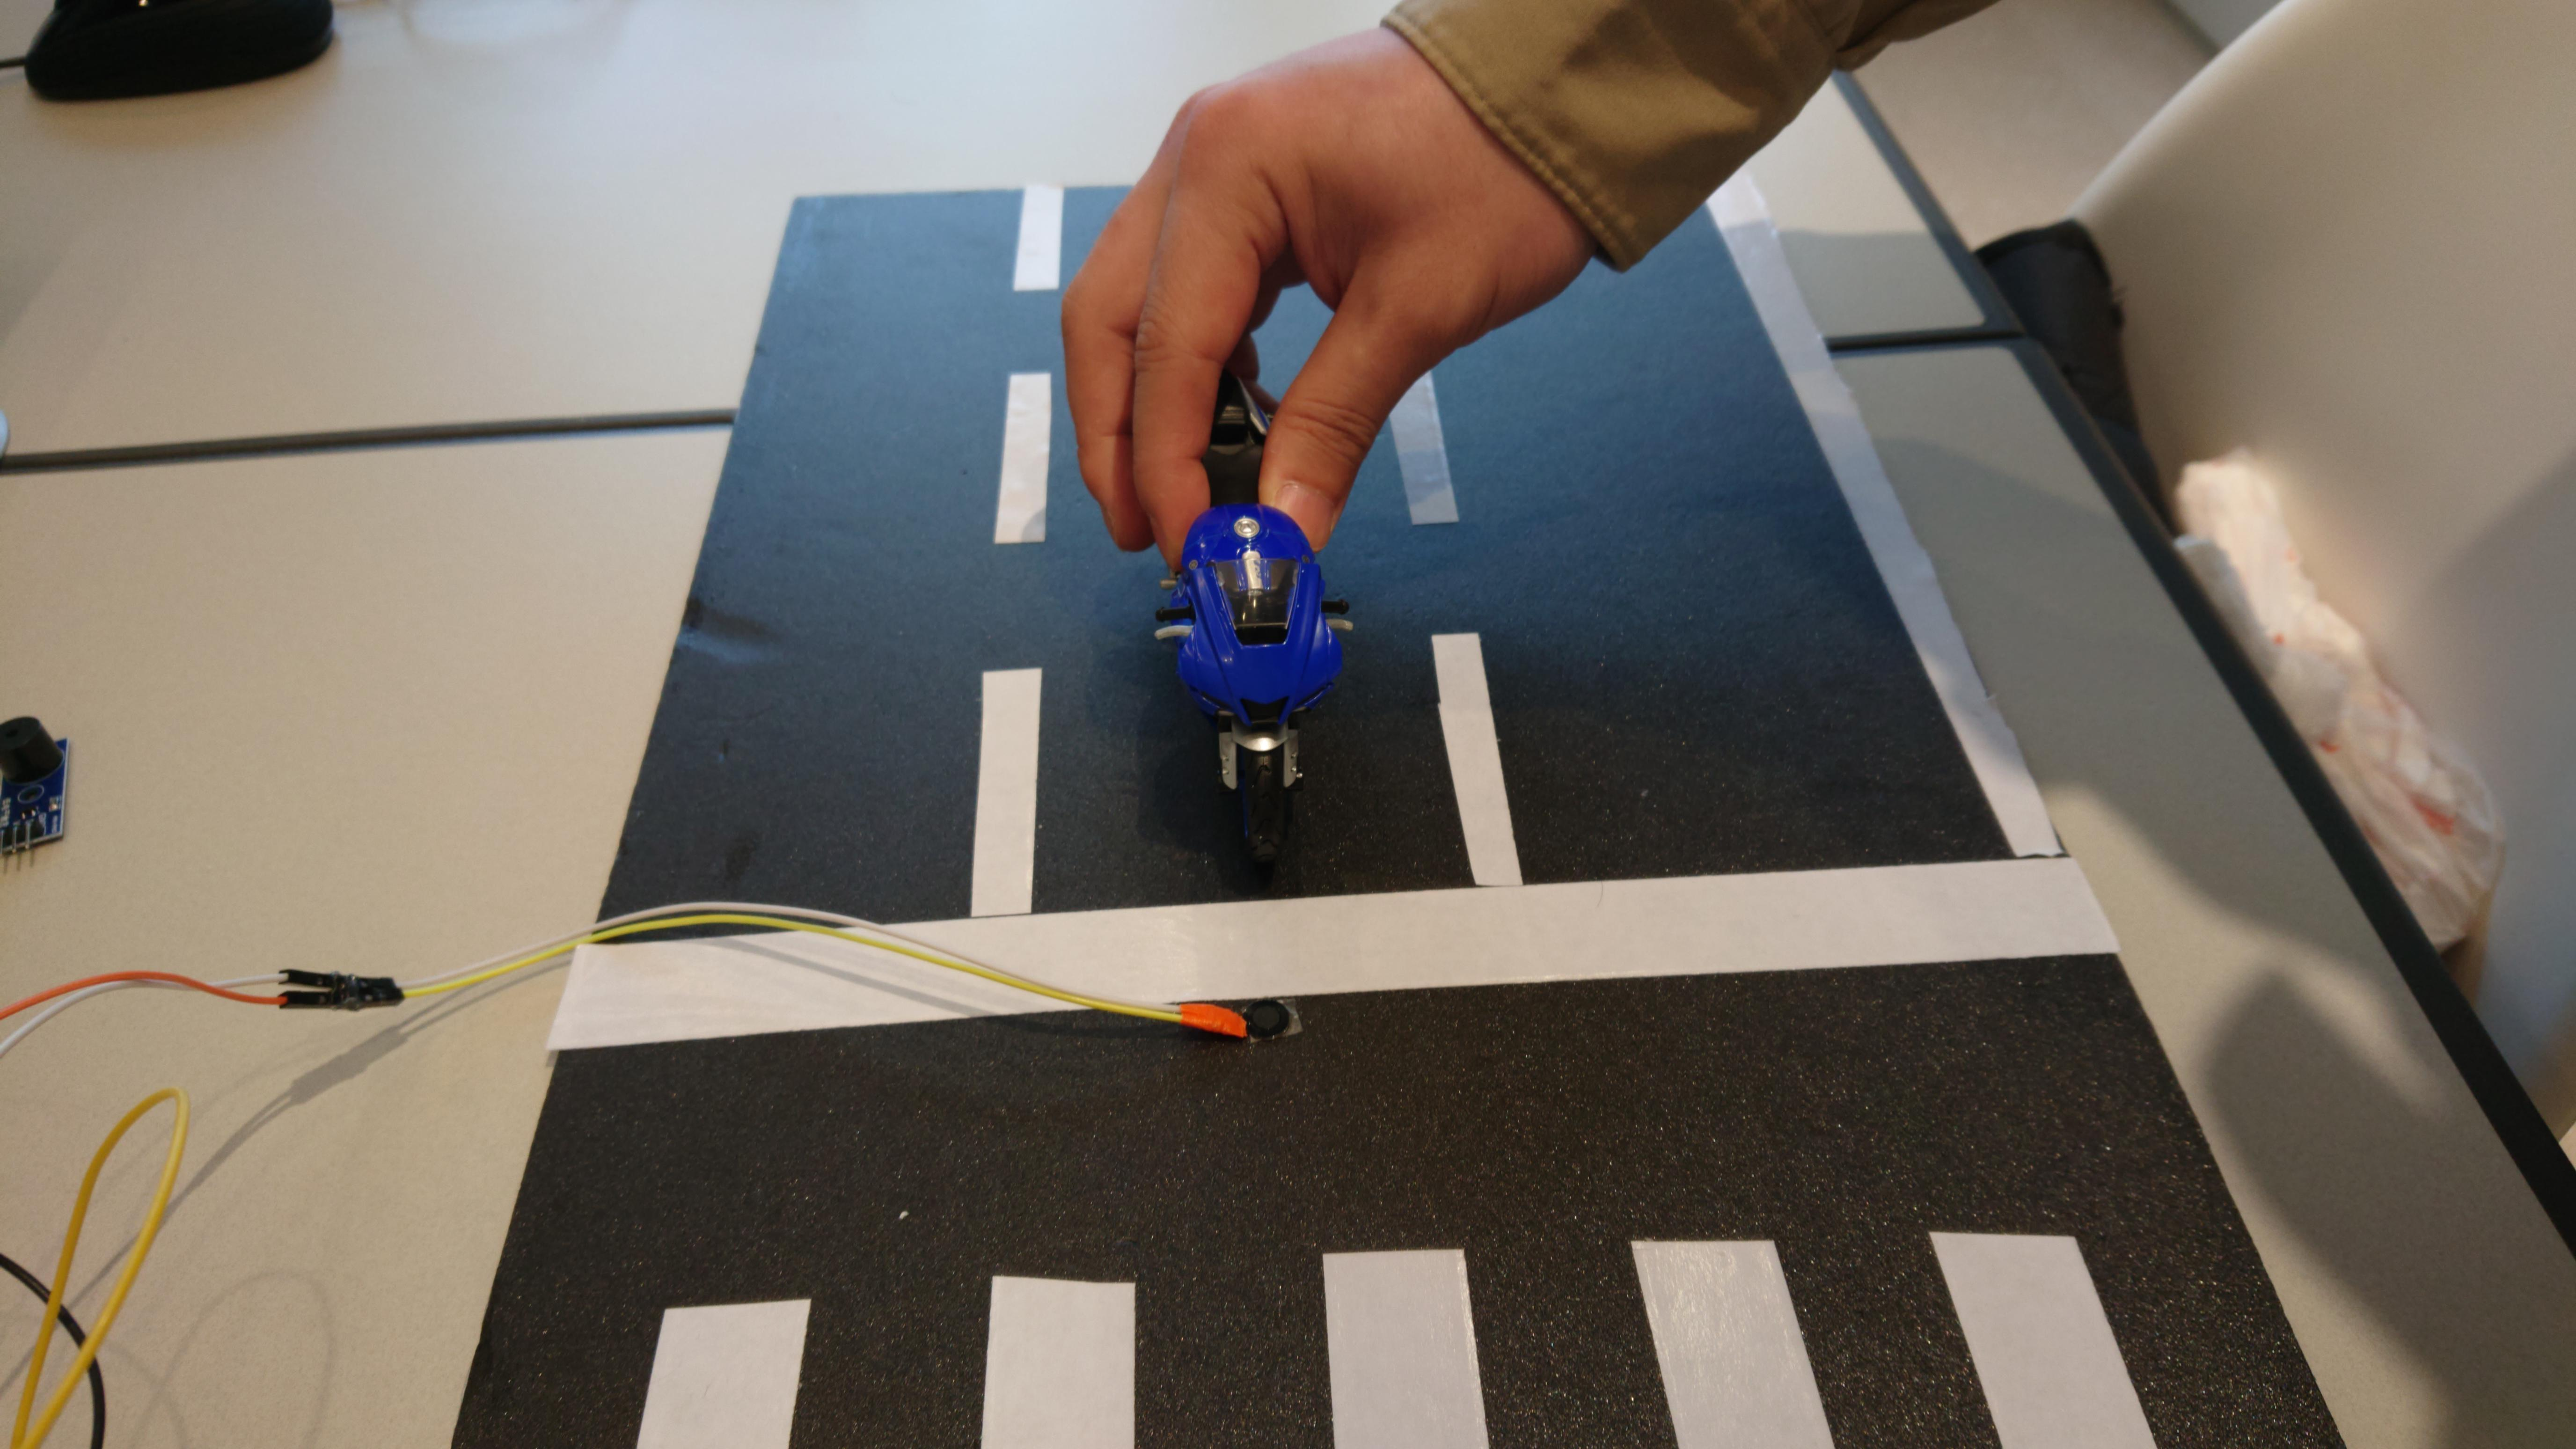Motorcycle: (1141, 347, 1366, 844)
